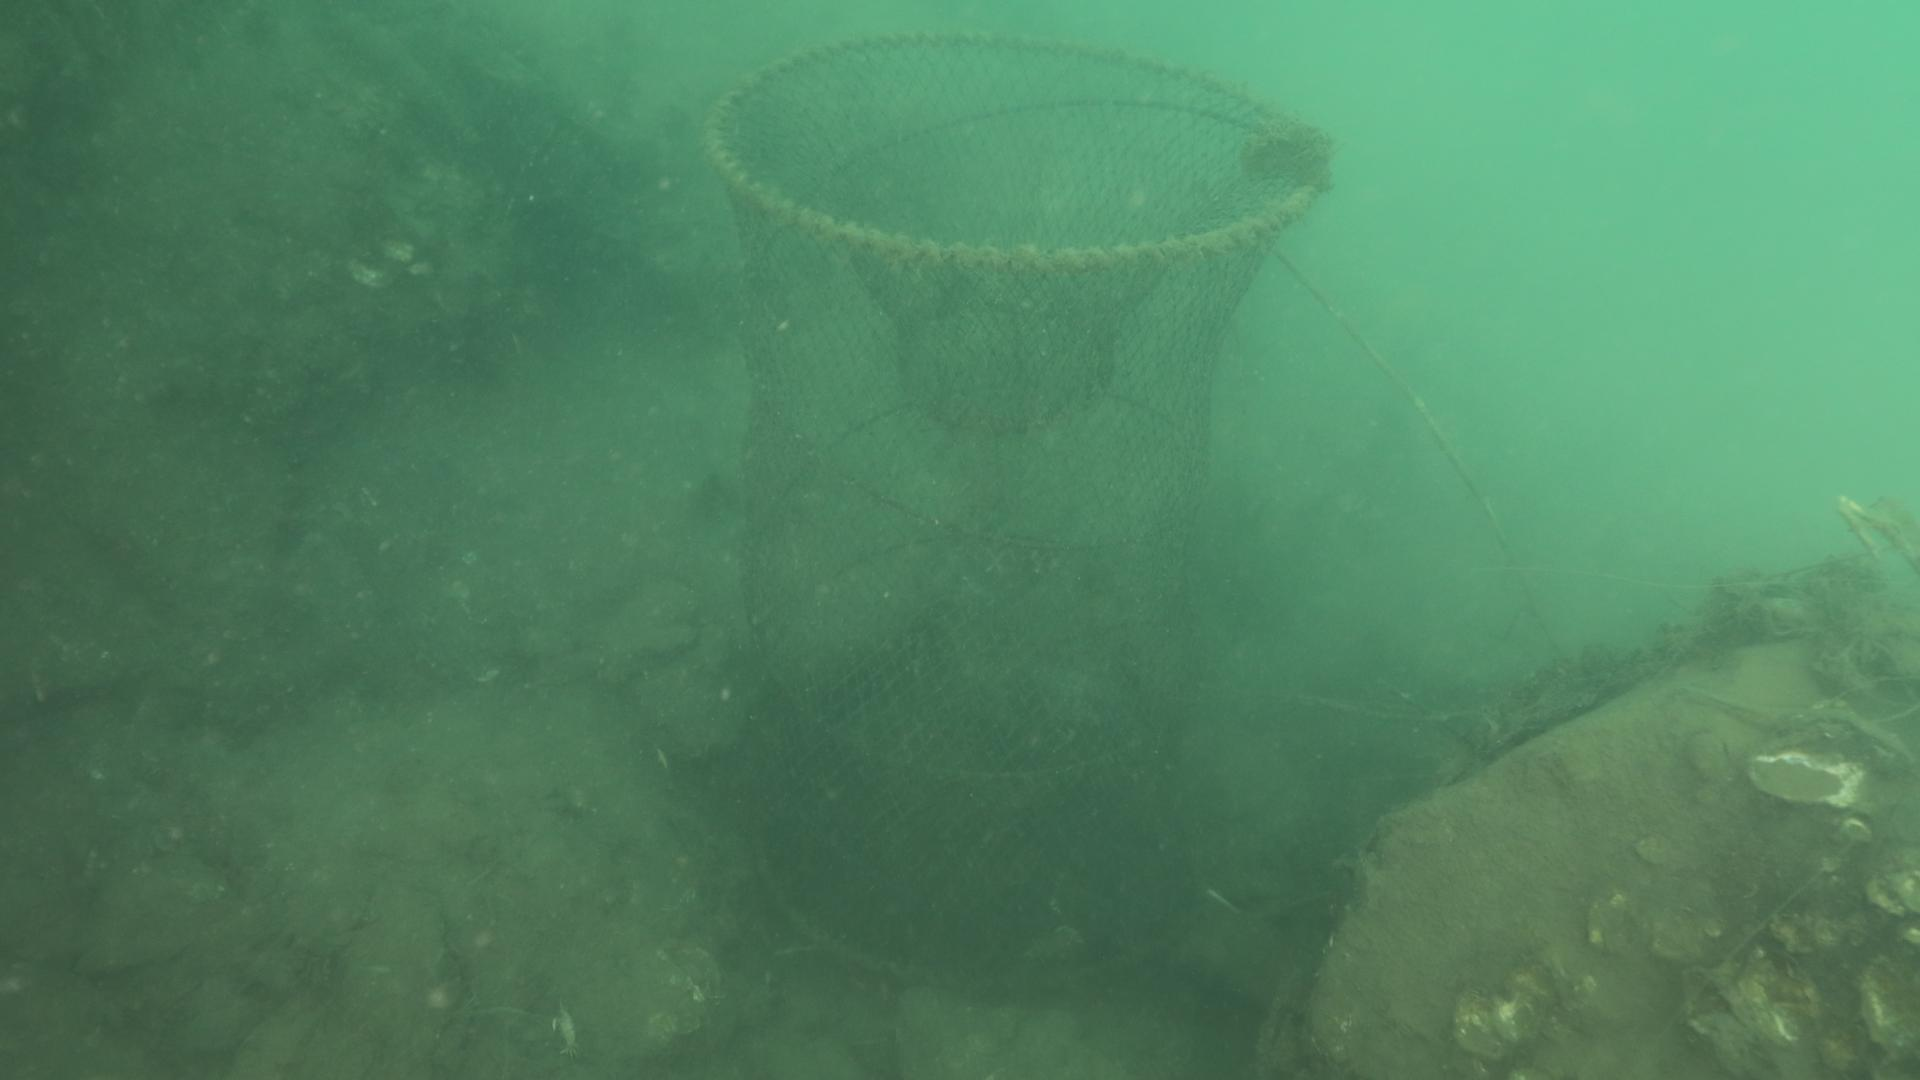spring fish trap: (702, 26, 1331, 984)
